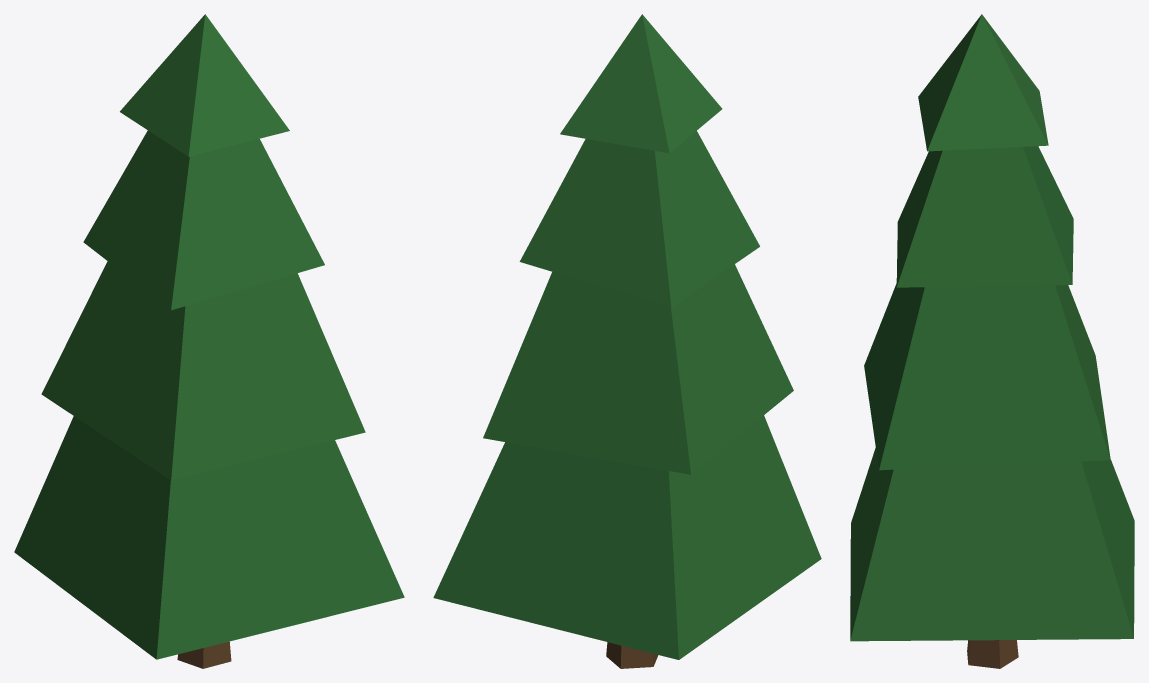
The model's file is tree-fir.glb.
The picture shows the model from 3 angles, left to right: view 1: azimuth 30°, elevation 25°; view 2: azimuth 150°, elevation 25°; view 3: azimuth 270°, elevation 25°; orthographic projection.
Visible parts, largest first — view 1: tree-fir; view 2: tree-fir; view 3: tree-fir.
Part boxes in pixels (left/top/right/bottom): tree-fir: left=14, top=14, right=404, bottom=668; tree-fir: left=433, top=14, right=821, bottom=668; tree-fir: left=850, top=14, right=1134, bottom=668.
Size of the model in its own units: 2.33 by 5.79 by 2.33.
1 material, 1 textured.
